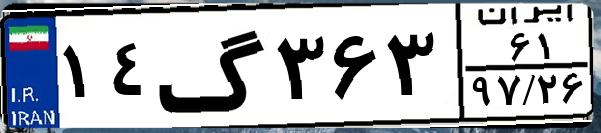1: (57, 26, 110, 100), (537, 27, 568, 80)
2: (535, 70, 560, 125)
3: (270, 28, 330, 110), (385, 28, 445, 110)
4: (110, 28, 156, 98)
6: (330, 28, 385, 110), (560, 70, 590, 125), (508, 27, 537, 80)
7: (495, 70, 520, 125)
9: (470, 70, 495, 125)
گ: (156, 12, 270, 120)
